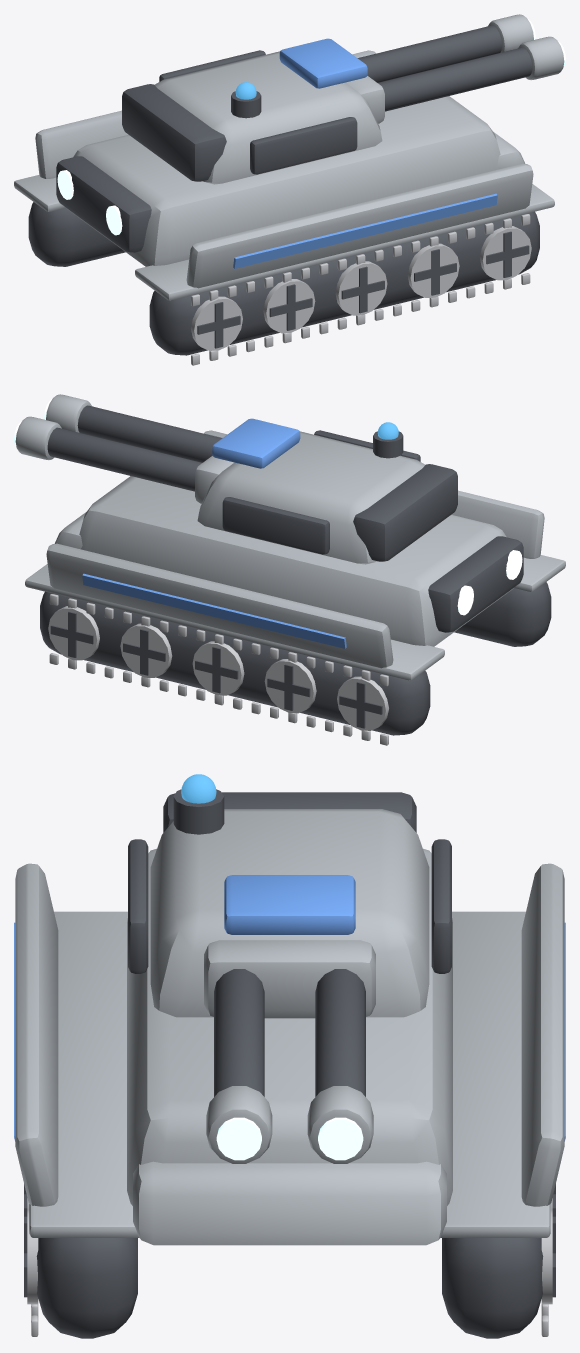
Rendered from hum_heavy.glb.
3 views of the same model, one above another, from view 1: azimuth 30°, elevation 25°; view 2: azimuth 150°, elevation 25°; view 3: azimuth 270°, elevation 25° (orthographic). The views are drawn at different scales.
Visible parts, largest first — view 1: hum_heavy, turret_m, wheel_r4_m, wheel_r2_m, wheel_r0_m, wheel_r1_m, wheel_r3_m, treadb_r_m, treadf_r_m; view 2: hum_heavy, turret_m, wheel_l4_m, wheel_l2_m, wheel_l0_m, wheel_l1_m, wheel_l3_m, treadb_l_m, treadf_l_m; view 3: hum_heavy, turret_m, wheel_l4_m, wheel_r4_m.
Boxes of the visible parts, x1,y1,x2,y2 form: hum_heavy: (14,50,554,355); turret_m: (122,14,565,184); wheel_r4_m: (480,226,531,280); wheel_r2_m: (335,261,387,315); wheel_r0_m: (191,296,242,350); wheel_r1_m: (263,279,315,333); wheel_r3_m: (407,243,459,297); treadb_r_m: (191,273,530,365); treadf_r_m: (191,214,530,306); hum_heavy: (25,430,565,735); turret_m: (14,394,457,564); wheel_l4_m: (48,606,99,660); wheel_l2_m: (192,641,244,695); wheel_l0_m: (337,676,388,730); wheel_l1_m: (264,659,316,713); wheel_l3_m: (120,623,172,677); treadb_l_m: (49,653,388,745); treadf_l_m: (49,594,388,686); hum_heavy: (14,848,565,1338); turret_m: (128,774,451,1163); wheel_l4_m: (541,1209,555,1304); wheel_r4_m: (24,1209,38,1304).
Size of the model in its own units: 1.74 by 0.8072 by 1.09.
